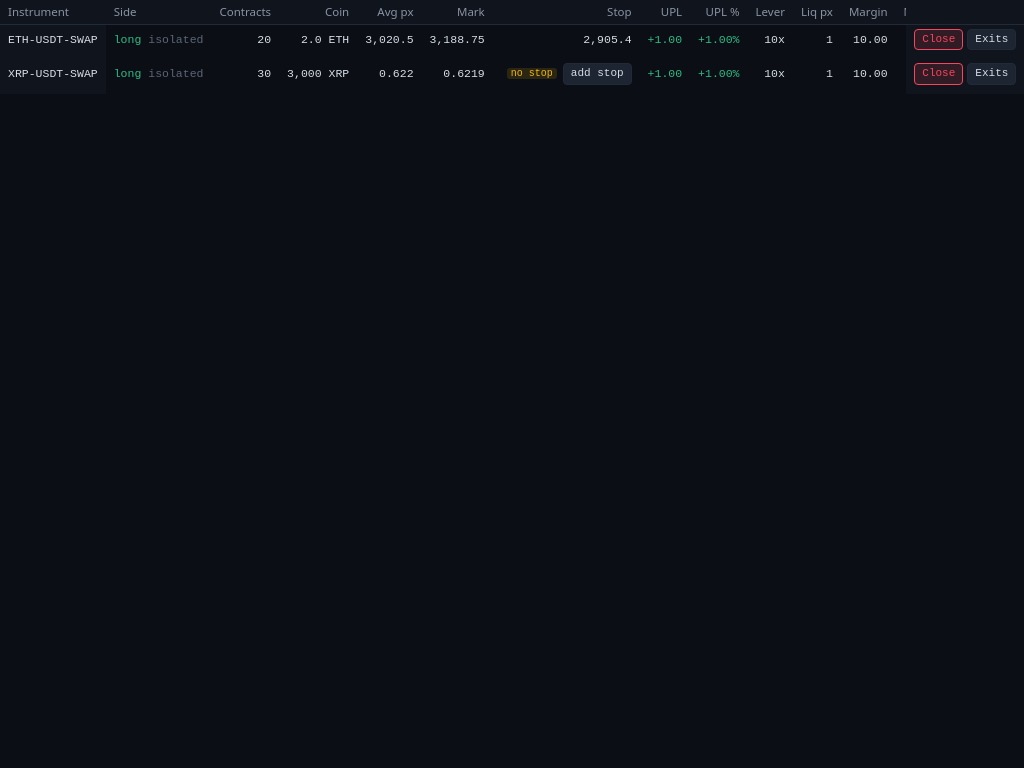
Test: the exits of a position › a position of the campaign: its exits are the rule's, nothing can be set by hand
Click the button "Exits" in the row of "XRP-USDT-SWAP".
click(992, 74)  # box [967,63,1016,85]
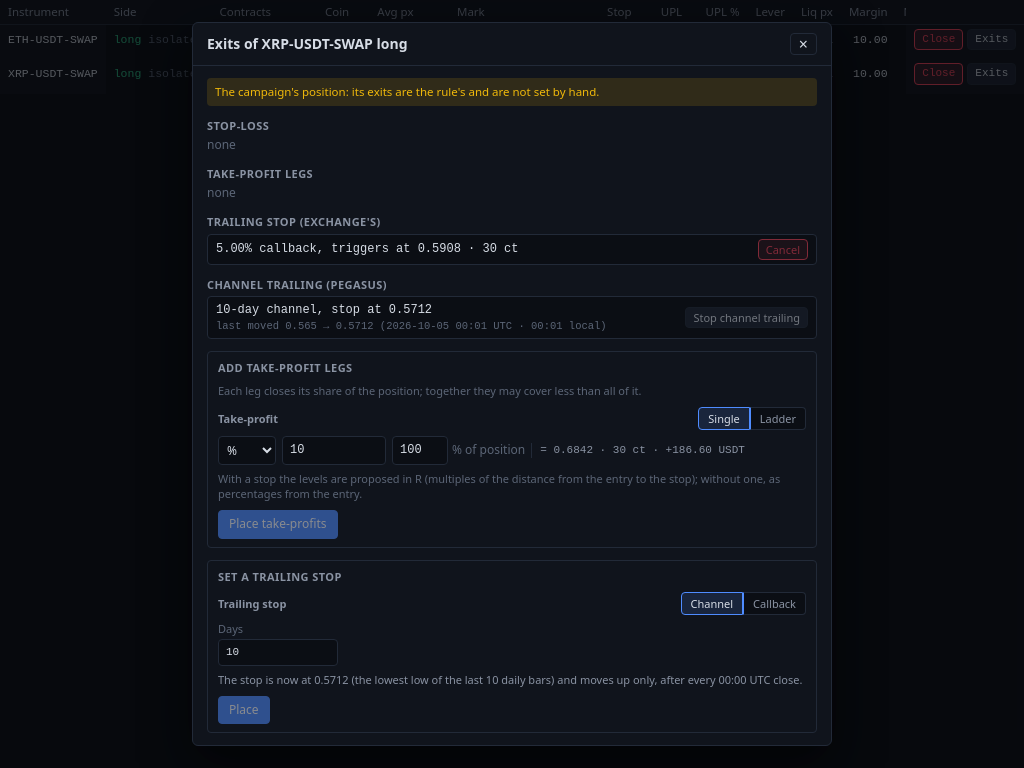
Now the text with class "notice-warn" reads "The campaign's position: its exits are the rule's and are not set by hand.", box [215,84,599,99]
Now the button "Stop channel trailing" is disabled, box [685,307,808,328]
Now the button "Place take-profits" is disabled, box [218,510,338,539]
